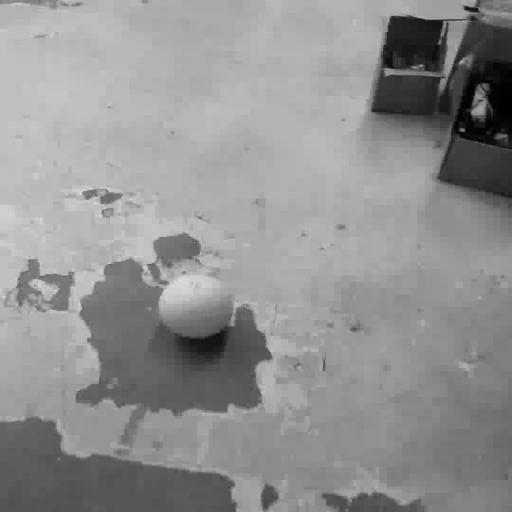fuel: (159, 275, 234, 339)
